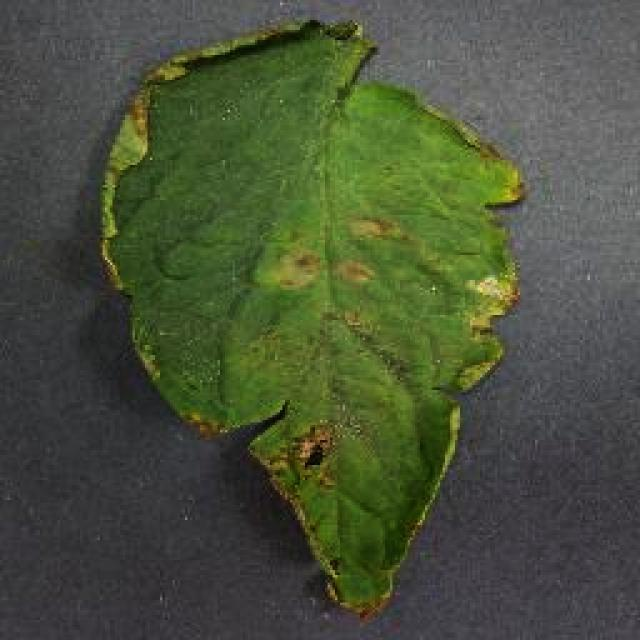Tomato bacterial spot leaf: (87, 9, 534, 626)
